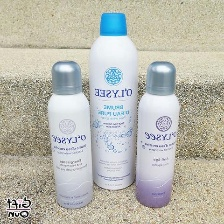aerosol_cans: (82, 8, 141, 193), (129, 57, 183, 212), (45, 56, 98, 213)
